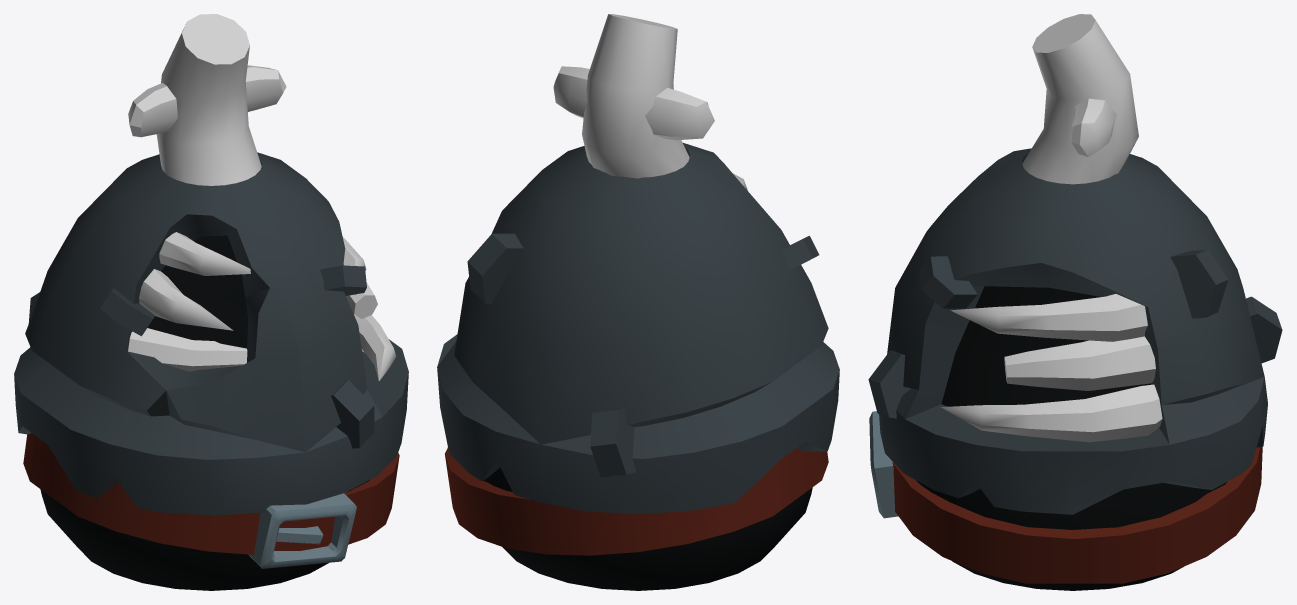
The model's file is body_warrior.fbx.
The picture shows the model from 3 angles, left to right: view 1: azimuth 30°, elevation 25°; view 2: azimuth 150°, elevation 25°; view 3: azimuth 270°, elevation 25°; orthographic projection. The views are drawn at different scales.
Visible parts, largest first — view 1: body_warrior; view 2: body_warrior; view 3: body_warrior.
Part boxes in pixels (x1,y1,x2,y2): body_warrior: (14,14,408,590); body_warrior: (437,14,839,590); body_warrior: (868,14,1282,590).
Size of the model in its own units: 68.66 by 101 by 73.67.
